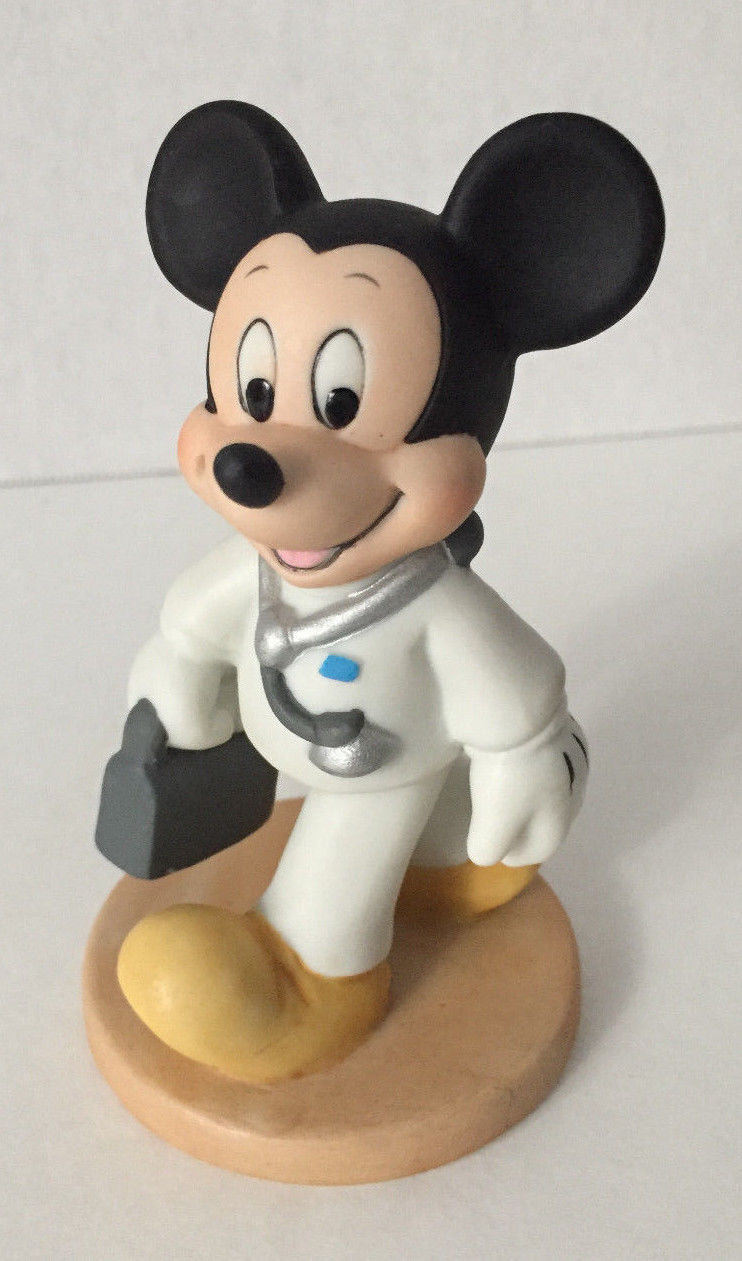Mickey: (133, 79, 666, 591)
